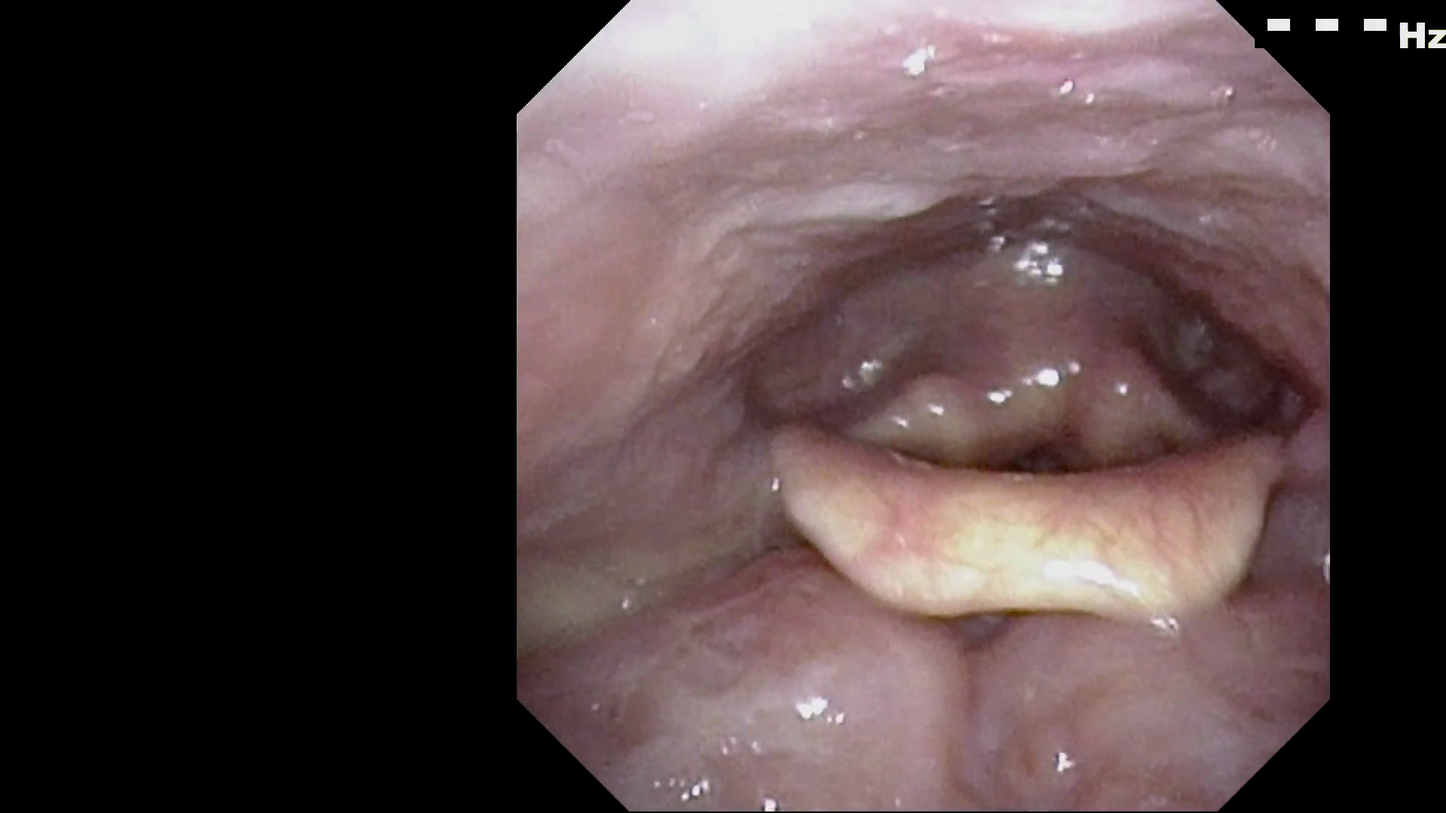epiglottis: (755, 388, 1301, 628)
trachea: (960, 380, 1106, 534)
